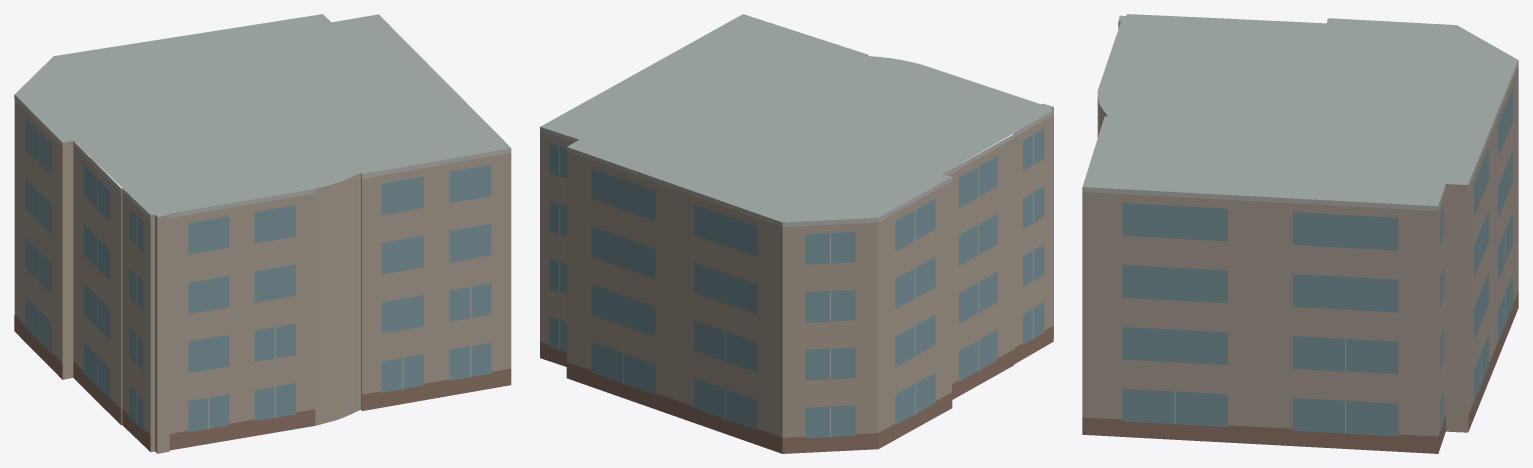
The model's file is survey-upis-33015920.glb.
3 renders of one model, left to right at view 1: azimuth 30°, elevation 25°; view 2: azimuth 150°, elevation 25°; view 3: azimuth 270°, elevation 25°, orthographic. The views are drawn at different scales.
Parts seen in each view (by area): view 1: survey-upis-33015920.tmp; view 2: survey-upis-33015920.tmp; view 3: survey-upis-33015920.tmp.
Boxes of the visible parts, x1,y1,x2,y2 form: survey-upis-33015920.tmp: [14, 14, 511, 453]; survey-upis-33015920.tmp: [540, 14, 1053, 453]; survey-upis-33015920.tmp: [1082, 14, 1518, 453].
Bounding box in the file's own units: 20.66 × 12.4 × 19.81.
